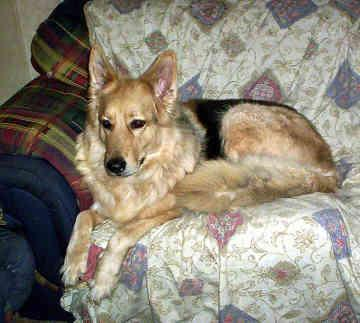German_shepherd: (59, 44, 341, 302)
